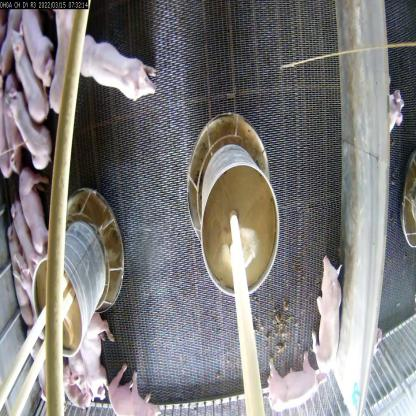Pig: (72, 23, 155, 99), (4, 88, 52, 171), (10, 38, 52, 132), (18, 160, 54, 269), (50, 16, 88, 119), (312, 247, 341, 380), (14, 6, 61, 82), (270, 352, 324, 415), (80, 312, 111, 402), (108, 365, 153, 415)
